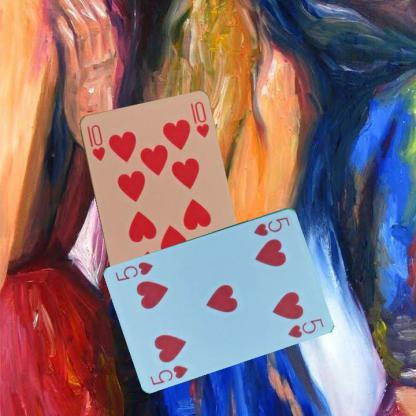10h: (84, 122, 106, 162)
5h: (148, 362, 190, 386), (251, 214, 292, 238)
